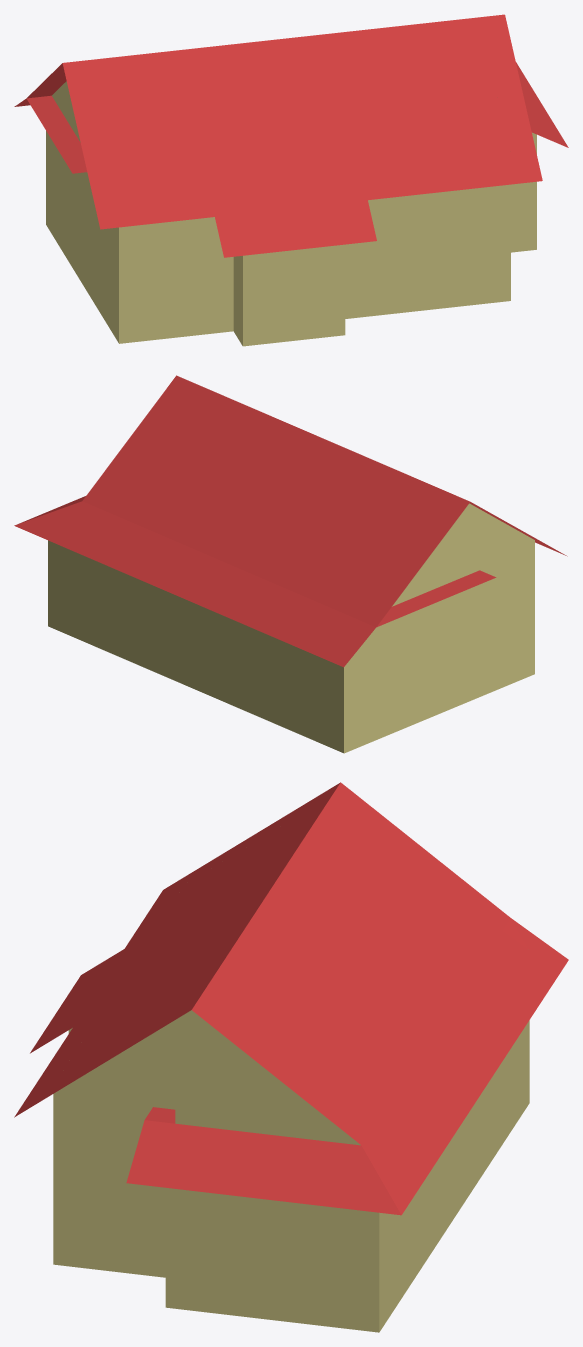
The picture shows the model from 3 angles, top to bottom: view 1: azimuth 30°, elevation 25°; view 2: azimuth 150°, elevation 25°; view 3: azimuth 270°, elevation 25°; orthographic projection. The views are drawn at different scales.
Bounding box in the file's own units: 33.6 × 26.01 × 14.72.
